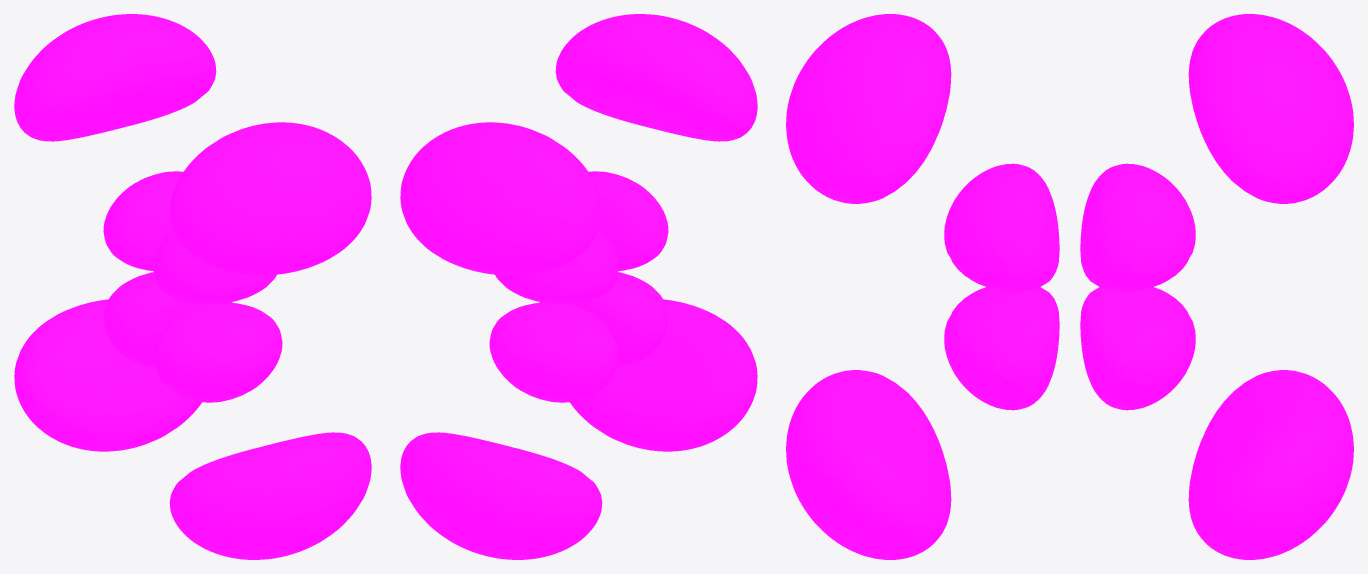
File: 4dyz.glb
3 views of the same model, side by side, from view 1: azimuth 30°, elevation 25°; view 2: azimuth 150°, elevation 25°; view 3: azimuth 270°, elevation 25° (orthographic). The views are drawn at different scales.
Parts seen in each view (by area): view 1: 4dyz; view 2: 4dyz; view 3: 4dyz.
Part boxes in pixels (box(x1,y1,x2,y2)): 4dyz: box(14, 14, 371, 559); 4dyz: box(400, 14, 757, 559); 4dyz: box(786, 14, 1353, 559).
Bounding box in the file's own units: 11.14 × 23.69 × 23.69.
